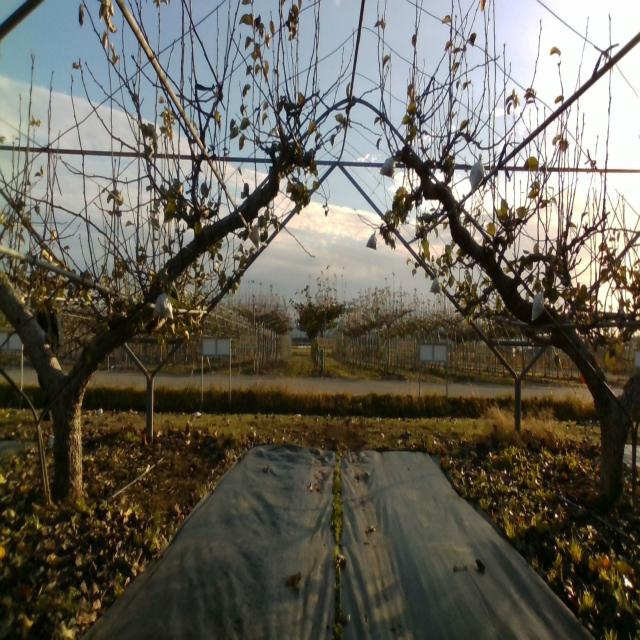pearbags: (153, 287, 173, 322), (470, 154, 485, 190), (531, 292, 545, 321), (248, 224, 262, 252), (380, 154, 395, 178), (429, 274, 442, 294), (366, 230, 377, 250)
